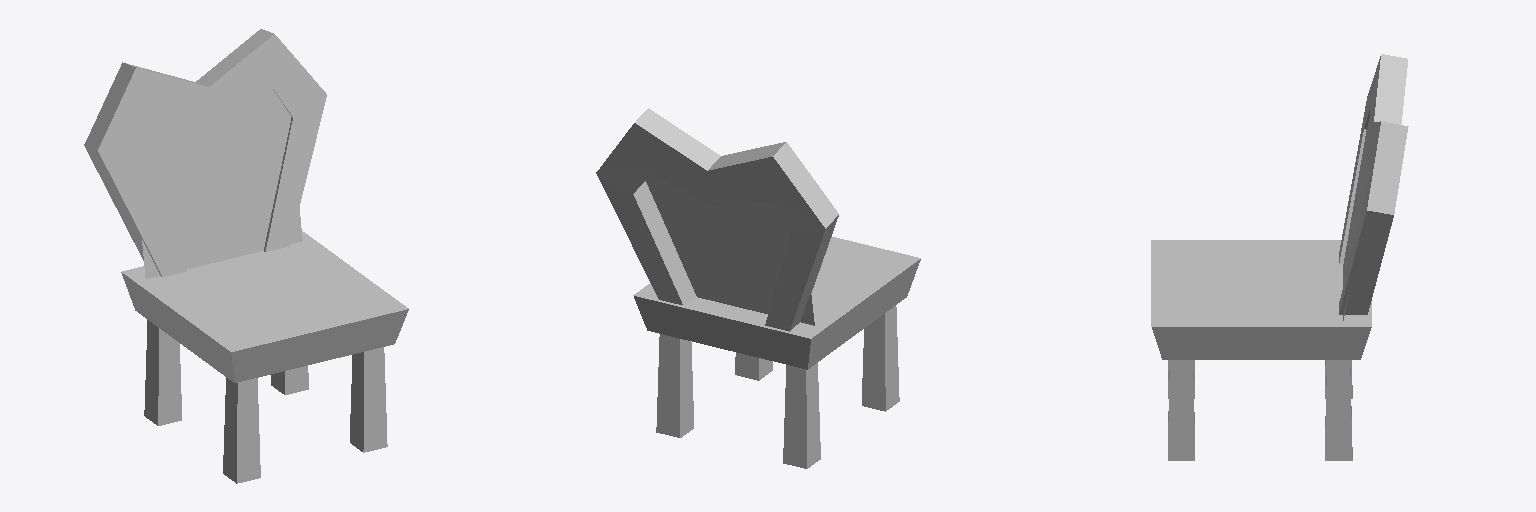
The model's file is LovelyChair.obj.
3 views of the same model, side by side, from view 1: azimuth 30°, elevation 25°; view 2: azimuth 150°, elevation 25°; view 3: azimuth 270°, elevation 25° (orthographic).
Visible parts, largest first — view 1: initialShadingGroup initialShadingGrouppolygon4; view 2: initialShadingGroup initialShadingGrouppolygon4; view 3: initialShadingGroup initialShadingGrouppolygon4.
Part boxes in pixels (x1,y1,x2,y2): initialShadingGroup initialShadingGrouppolygon4: (84,29,408,483); initialShadingGroup initialShadingGrouppolygon4: (596,108,920,468); initialShadingGroup initialShadingGrouppolygon4: (1151,54,1408,460).
Size of the model in its own units: 5.4 by 7.57 by 5.24.